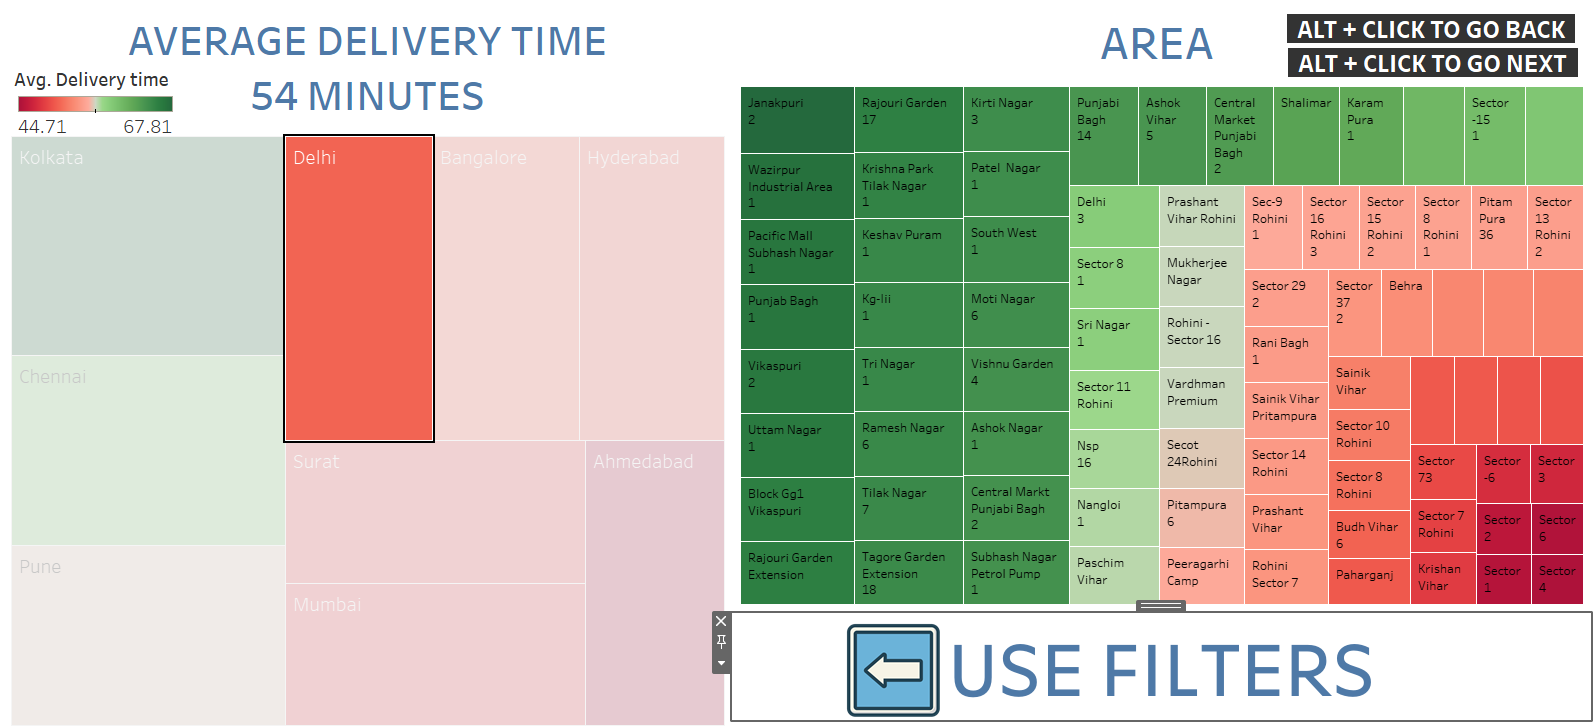

What the dashboard file says about the page in this screenshot:
{"tool":"tableau","page":{"name":"Dashboard 2","canvas":[1000,1000],"units":"permille","ordinal":1},"visuals":[{"type":"worksheet","title":"DEL","mark":"Automatic","box":[5,10.7,454.5,978.6]},{"type":"worksheet","title":"AREA","mark":"Automatic","box":[459.5,10.7,535.5,817.7]},{"type":"dashboard-object","box":[805.5,25.5,179.6,38.9]},{"type":"dashboard-object","box":[806.1,71,180.8,38.9]},{"type":"legend","title":"DEL","param":"[federated.0ywou970dzrzru12fkqnz0qyjocf].[avg:Delivery time:qk]","box":[11.8,95.2,101.6,134.1]},{"type":"text","box":[459.5,828.4,535.5,143.4]},{"type":"image","box":[498.8,833.8,81.7,143.4]}]}

Visuals, with their boxes on the dashboard's canvas, which has no fixed pixel size, in thousandths of its width and height (x1, y1, x2, y2). These are canvas units, not pixel positions in the 1594x726 screenshot, which may show the page scaled, cropped or inside an application window:
"DEL" worksheet: (left=5, top=11, right=460, bottom=989)
"AREA" worksheet: (left=460, top=11, right=995, bottom=828)
dashboard-object: (left=806, top=26, right=985, bottom=64)
dashboard-object: (left=806, top=71, right=987, bottom=110)
"DEL" legend: (left=12, top=95, right=113, bottom=229)
text: (left=460, top=828, right=995, bottom=972)
image: (left=499, top=834, right=580, bottom=977)
